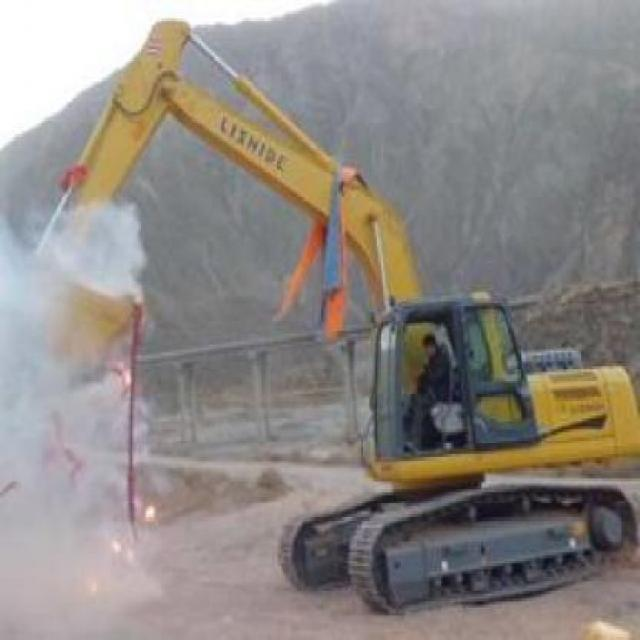Excavator: (32, 6, 638, 616)
